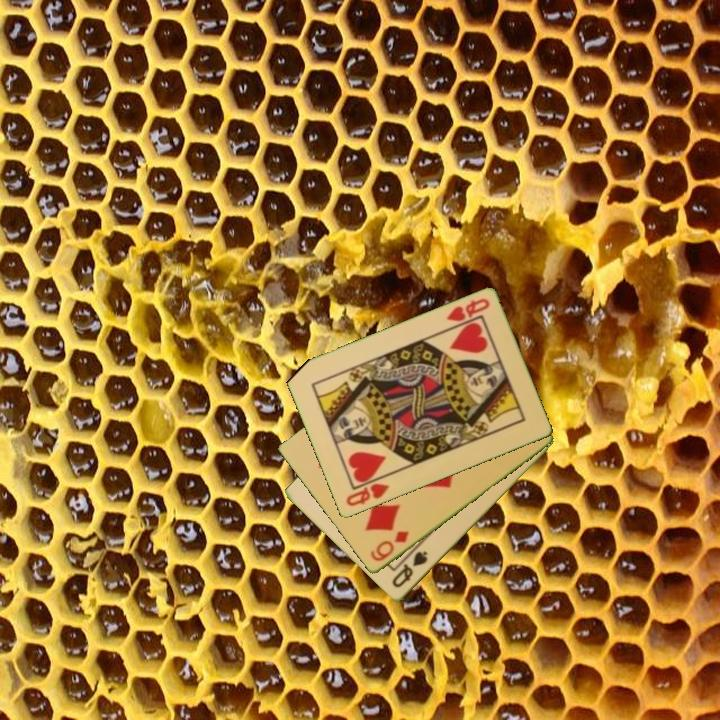6d: (367, 527, 412, 565)
Qh: (342, 480, 392, 510), (443, 295, 492, 325)
Qs: (389, 548, 431, 591)
